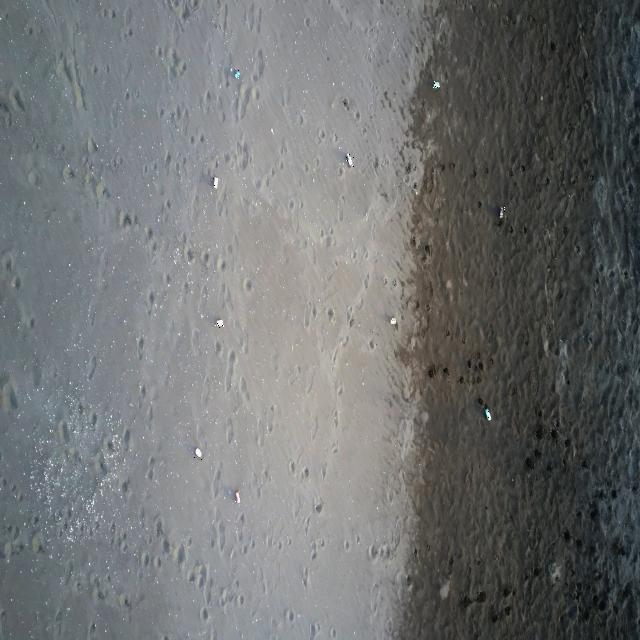tin-and-aluminum-cans: (484, 407, 493, 422), (346, 152, 354, 168), (194, 447, 203, 460), (214, 318, 224, 328), (499, 206, 505, 222), (235, 490, 241, 505), (213, 176, 219, 191), (234, 68, 241, 80), (433, 81, 441, 90), (390, 316, 397, 326)
